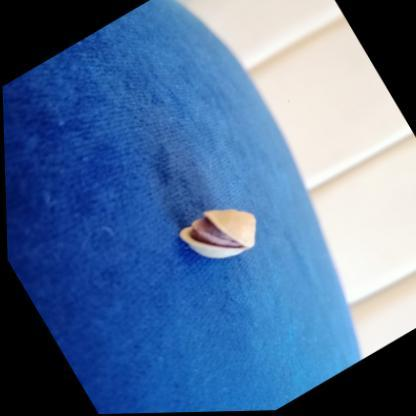pistachio: (183, 203, 257, 261)
